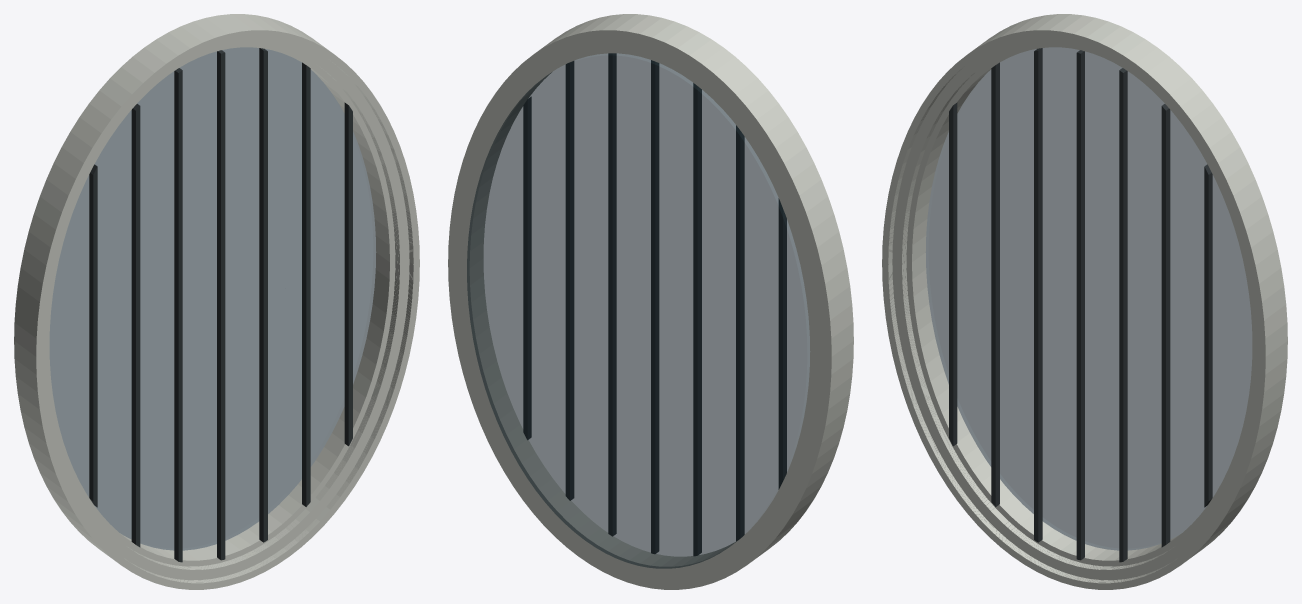
File: clasico_ellipse_con_reja.glb
3 renders of one model, left to right at view 1: azimuth 30°, elevation 25°; view 2: azimuth 150°, elevation 25°; view 3: azimuth 330°, elevation 25°, orthographic.
Parts seen in each view (by area): view 1: window_glass#0001, window_grille#0001, window_reveal#0001, window_profile#0020, window_profile#0009, window_profile#0010, window_profile#0017, window_profile#0011, window_profile#0019, window_profile#0018, window_profile#0001, window_profile#0012 (+11 smaller); view 2: window_glass#0001, window_reveal#0001, window_grille#0001, window_profile#0020, window_profile#0001; view 3: window_glass#0001, window_grille#0001, window_reveal#0001, window_profile#0020, window_profile#0009, window_profile#0010, window_profile#0017, window_profile#0011, window_profile#0019, window_profile#0018, window_profile#0001, window_profile#0012 (+11 smaller).
Part boxes in pixels (box(x1,y1,x2,y2)): window_glass#0001: box(49, 47, 376, 550); window_grille#0001: box(89, 48, 352, 562); window_reveal#0001: box(14, 14, 388, 559); window_profile#0020: box(25, 22, 419, 589); window_profile#0009: box(46, 42, 402, 572); window_profile#0010: box(43, 39, 404, 574); window_profile#0017: box(41, 35, 415, 584); window_profile#0011: box(42, 37, 407, 577); window_profile#0019: box(37, 32, 418, 588); window_profile#0018: box(39, 33, 416, 586); window_profile#0001: box(48, 46, 391, 561); window_profile#0012: box(61, 37, 409, 580); window_glass#0001: box(467, 53, 810, 568); window_reveal#0001: box(448, 21, 844, 589); window_grille#0001: box(523, 53, 786, 555); window_profile#0020: box(547, 14, 853, 553); window_profile#0001: box(481, 81, 734, 558); window_glass#0001: box(925, 47, 1252, 550); window_grille#0001: box(949, 48, 1212, 562); window_reveal#0001: box(913, 14, 1287, 559); window_profile#0020: box(882, 22, 1276, 589); window_profile#0009: box(899, 42, 1255, 572); window_profile#0010: box(897, 39, 1258, 574); window_profile#0017: box(886, 35, 1260, 584); window_profile#0011: box(894, 37, 1259, 577); window_profile#0019: box(883, 32, 1264, 588); window_profile#0018: box(885, 33, 1262, 586); window_profile#0001: box(910, 46, 1253, 561); window_profile#0012: box(892, 37, 1240, 580).
Size of the model in its own units: 1.6 by 2.2 by 0.18.
